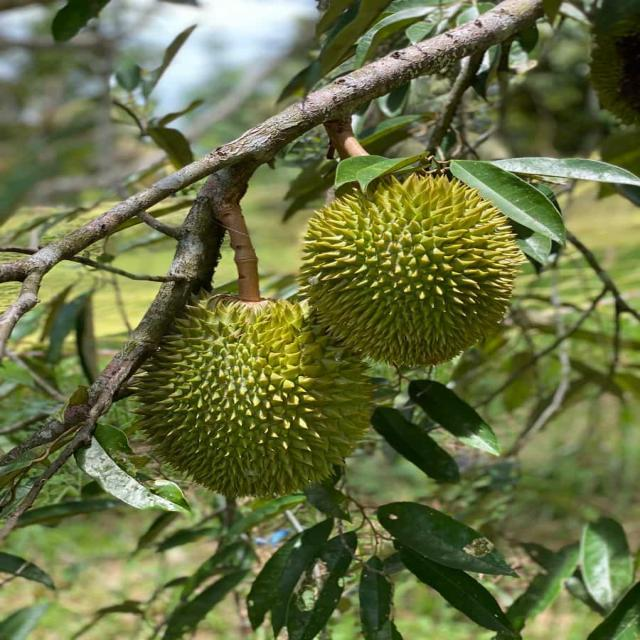immature: (141, 287, 383, 495), (303, 167, 523, 369)
